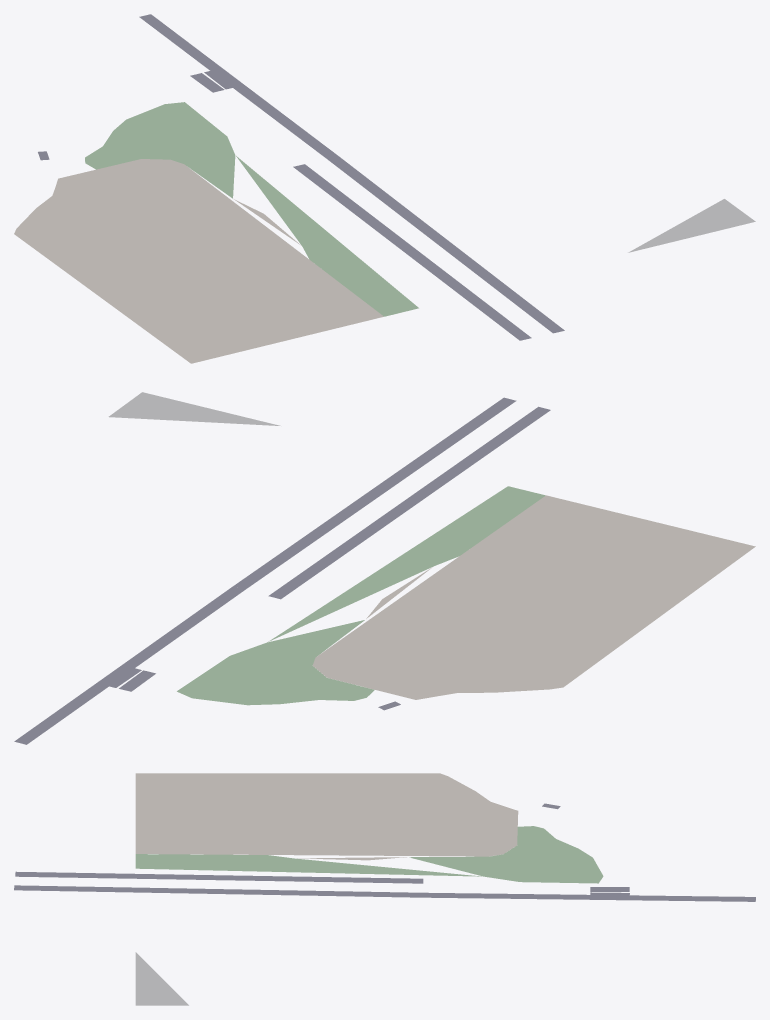
File: 128_69_mid.glb
The picture shows the model from 3 angles, top to bottom: view 1: azimuth 30°, elevation 25°; view 2: azimuth 150°, elevation 25°; view 3: azimuth 270°, elevation 25°; orthographic projection. The views are drawn at different scales.
Size of the model in its own units: 500 by 9.56 by 663.
